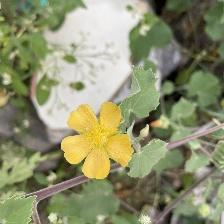indian mallow: (61, 101, 137, 182)
